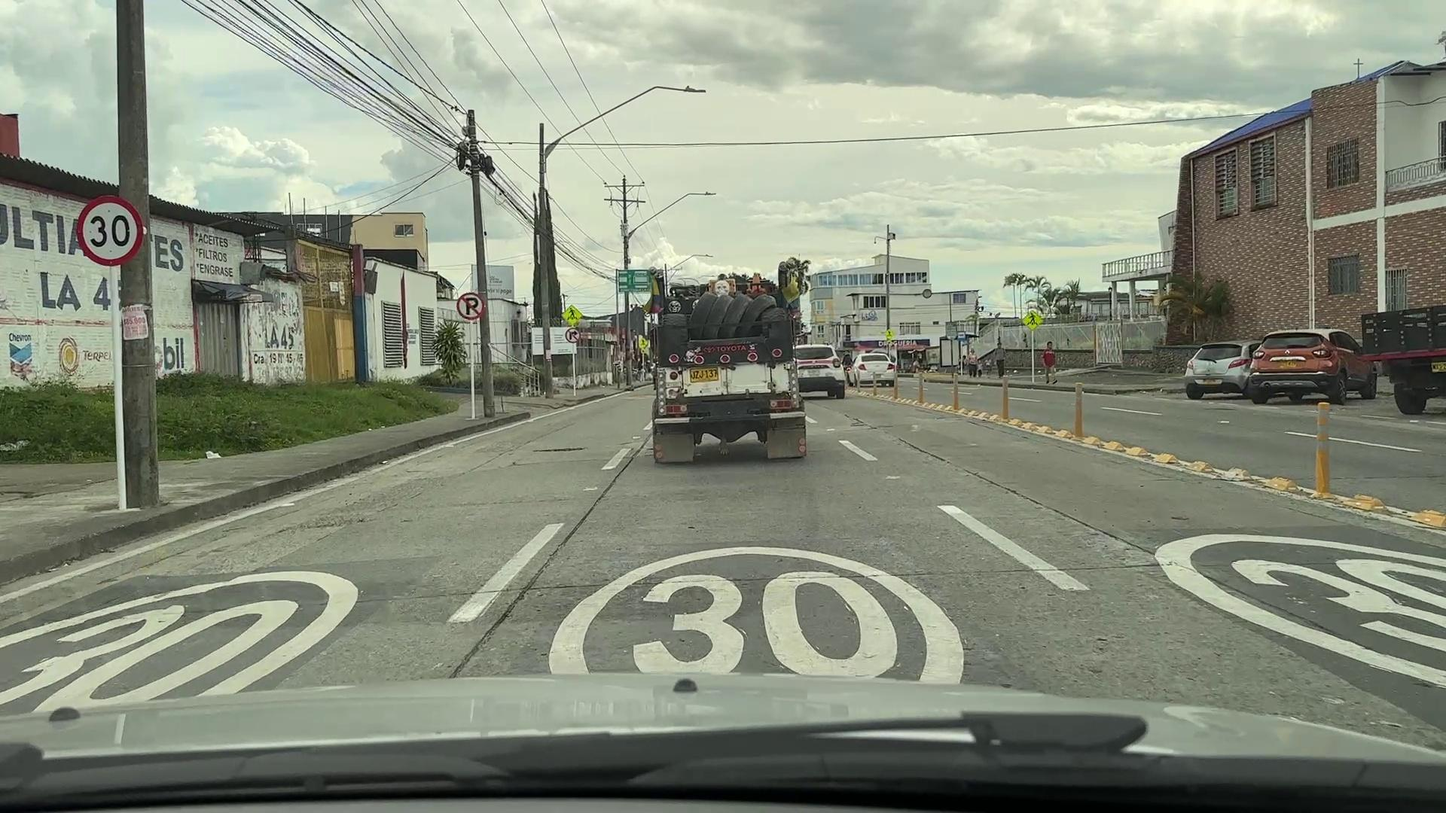bache: (532, 447, 586, 452)
